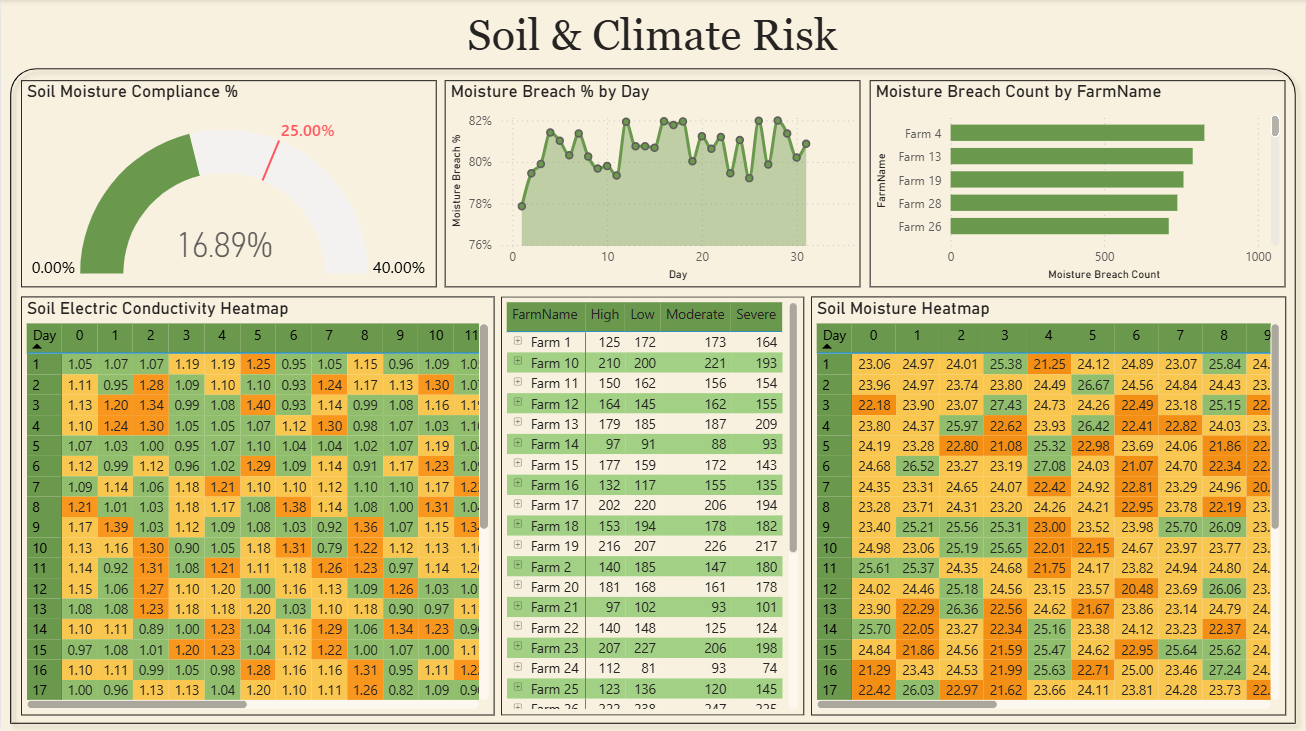

The page's visual inventory and layout, read from the dashboard file:
{"tool":"powerbi","page":{"name":"Soil & Climate Risk ","canvas":[1280,720],"ordinal":3},"visuals":[{"type":"shape","box":[0,58.6,1280,661.6],"z":0},{"type":"textbox","box":[453.1,6.1,374,58.8],"z":1000},{"type":"pivotTable","title":"Soil Moisture Heatmap","fields":{"Rows":["DimDateTime.Day"],"Values":["FactSoilTelemetry.Avg Soil Moisture %"],"Columns":["DimDateTime.Hour"]},"box":[795,292.1,466,411],"z":2000},{"type":"pivotTable","title":"Soil Electric Conductivity Heatmap","fields":{"Rows":["DimDateTime.Day"],"Columns":["DimDateTime.Hour"],"Values":["FactSoilTelemetry.Avg EC (dS/m)"]},"box":[19.8,292.1,465.1,411],"z":3000},{"type":"gauge","fields":{"Y":["FactSoilTelemetry.Soil Moisture Compliance %"]},"box":[19.8,79.3,408,202.8],"z":4000},{"type":"lineChart","fields":{"Category":["DimDateTime.Day"],"Y":["FactSoilTelemetry.Moisture Breach %"]},"box":[435.4,79.3,408.3,202.8],"z":5000},{"type":"barChart","fields":{"Category":["DimFarm.FarmName"],"Y":["FactSoilTelemetry.Moisture Breach Count"]},"box":[852.7,79.3,408.3,202.8],"z":6000},{"type":"pivotTable","fields":{"Rows":["DimFarm.FarmName","DimCrop.CropName"],"Columns":["DimSeverity.SeverityLabel"],"Values":["FactPestIncidents.Pest Incidents"]},"box":[491.3,292.1,297.5,411],"z":7000}]}

Visuals, with their boxes in screenshot pixels (x1, y1, x2, y2), scaled from the page's 1280x720 canvas onto the 1306x731 screenshot:
shape: [x1=0, y1=59, x2=1305, y2=730]
textbox: [x1=462, y1=6, x2=844, y2=66]
"Soil Moisture Heatmap" pivotTable: [x1=811, y1=297, x2=1287, y2=714]
"Soil Electric Conductivity Heatmap" pivotTable: [x1=20, y1=297, x2=495, y2=714]
gauge - FactSoilTelemetry.Soil Moisture Compliance %: [x1=20, y1=81, x2=436, y2=286]
lineChart - DimDateTime.Day x FactSoilTelemetry.Moisture Breach %: [x1=444, y1=81, x2=861, y2=286]
barChart - DimFarm.FarmName x FactSoilTelemetry.Moisture Breach Count: [x1=870, y1=81, x2=1287, y2=286]
pivotTable - DimFarm.FarmName x DimCrop.CropName: [x1=501, y1=297, x2=805, y2=714]
